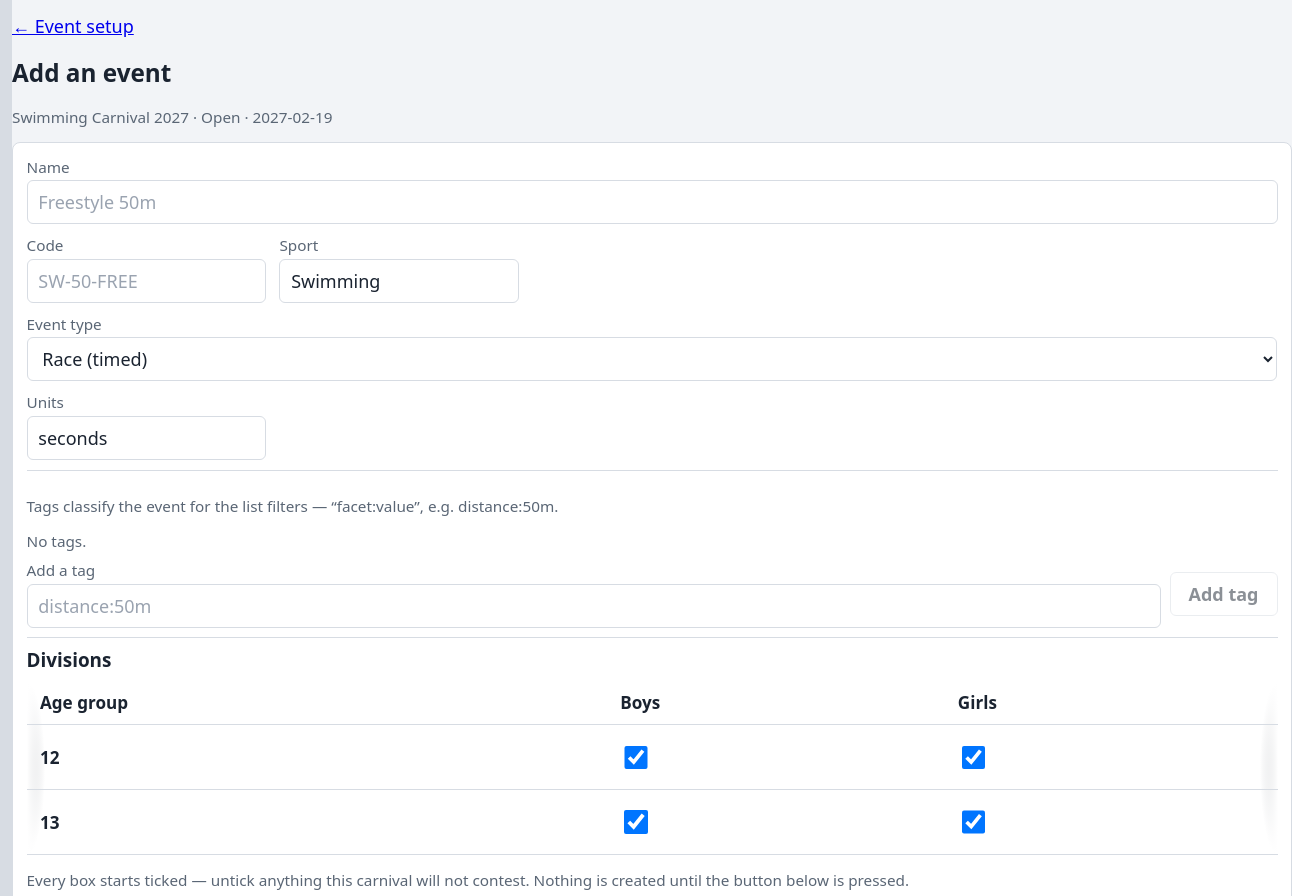
Test: NewEventScreen › sends two attempts per height on a Height event, and none on any other
Check: the field labelled "Name" is shown, box [26,180,1278,224]
Select "Field — bar ladder (vertical jump)" in the dropdown labelled "Event type": (652, 359) [26,337,1278,381]
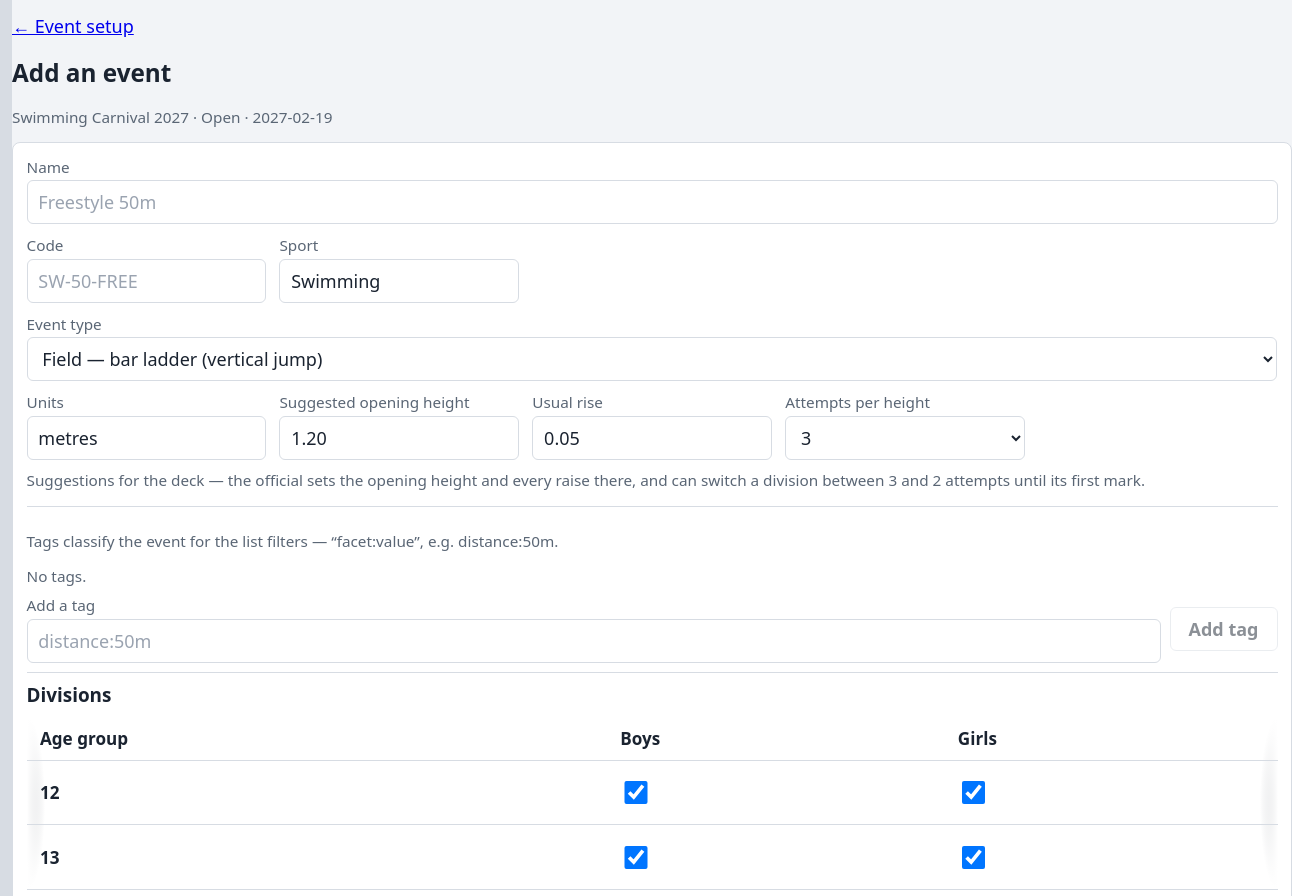
Select "2" in the dropdown labelled "Attempts per height": (905, 438) [785,416,1025,460]
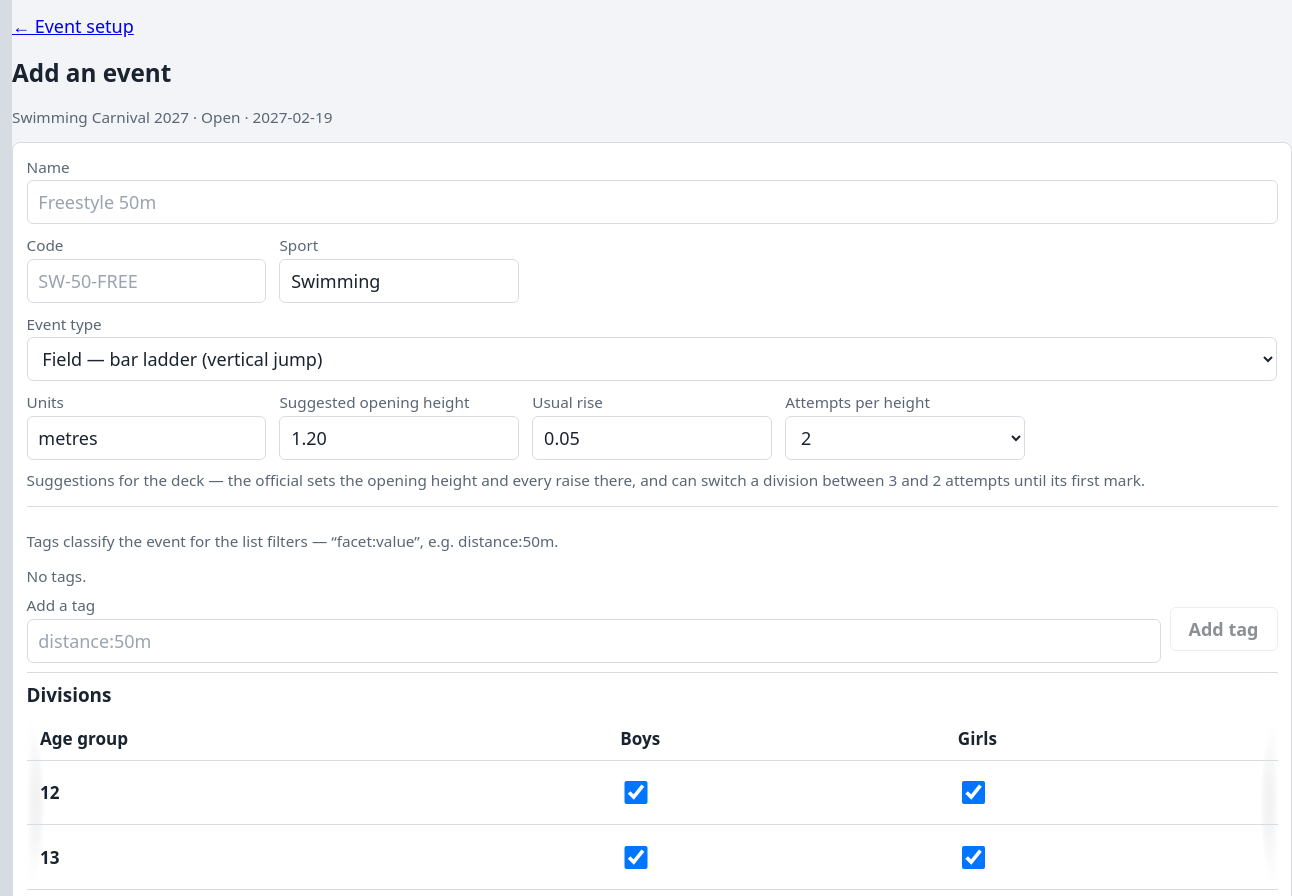
In the field labelled "Name": (652, 202) [26,180,1278,224], type "High Jump"
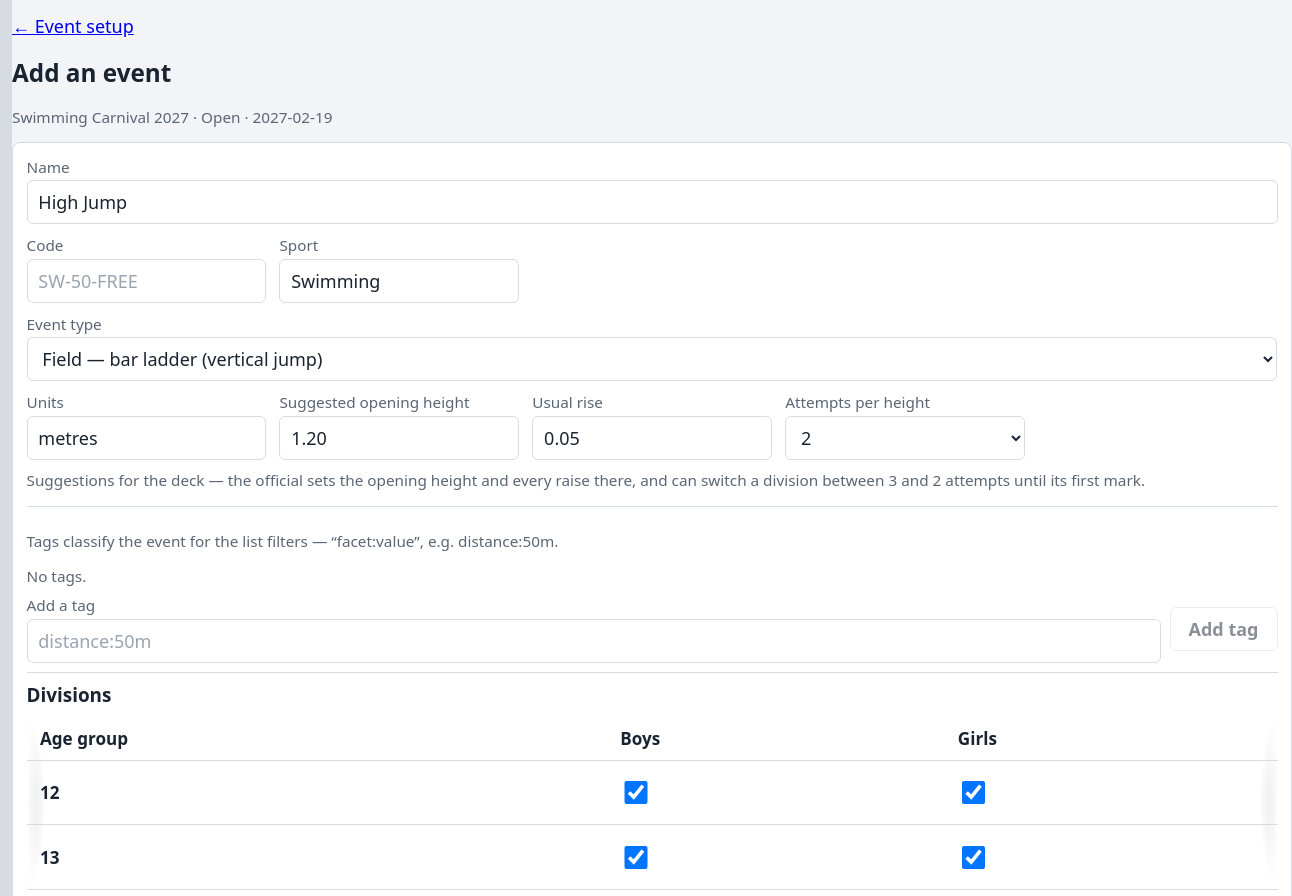
In the field labelled "Code": (146, 281) [26,259,266,303], type "AT-HIGH-JUMP"
(page scrolled)
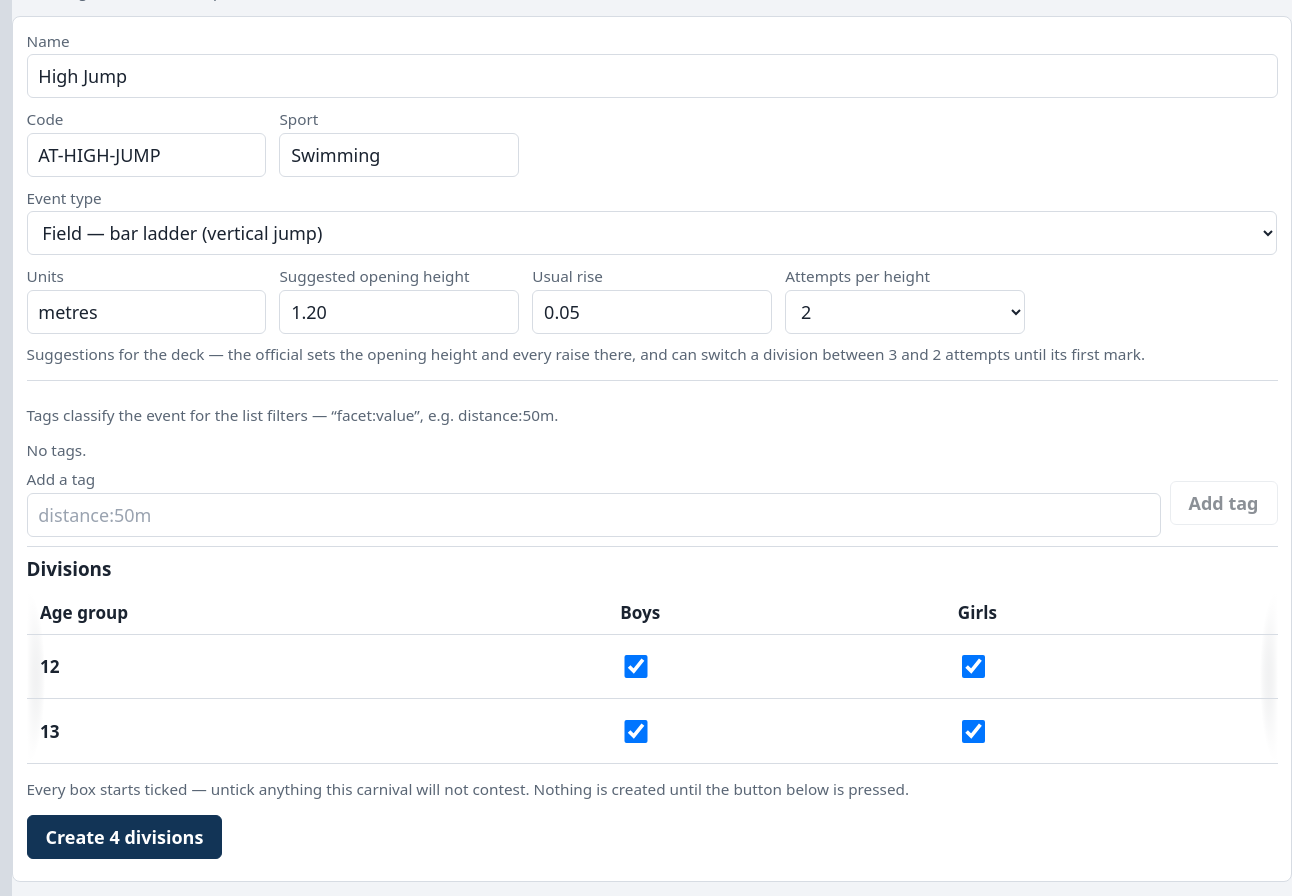
Click the button "Create 4 divisions": (124, 837) [26,815,222,859]
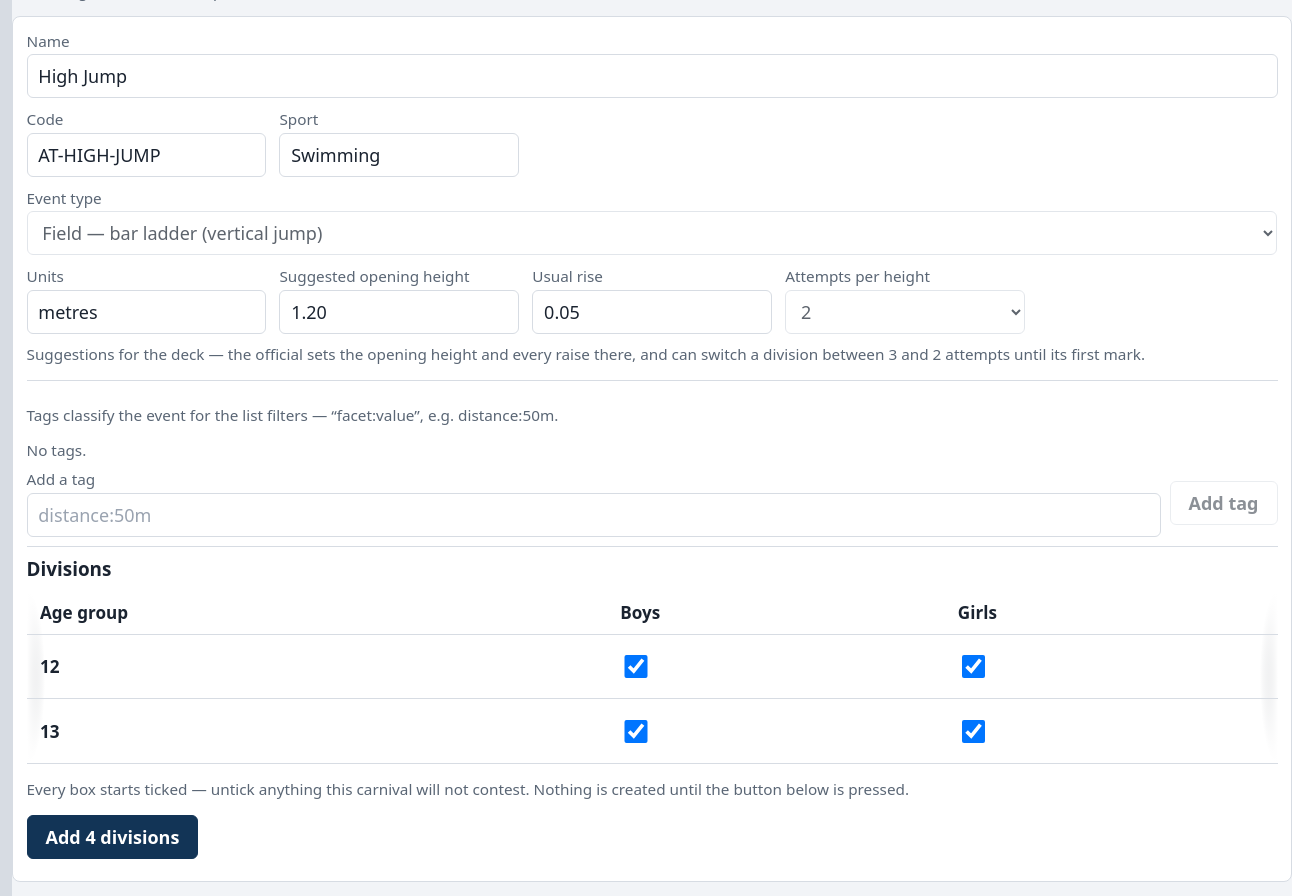
Select "Field — best of attempts (distance)" in the dropdown labelled "Event type": (652, 233) [26,211,1278,255]
(page scrolled)
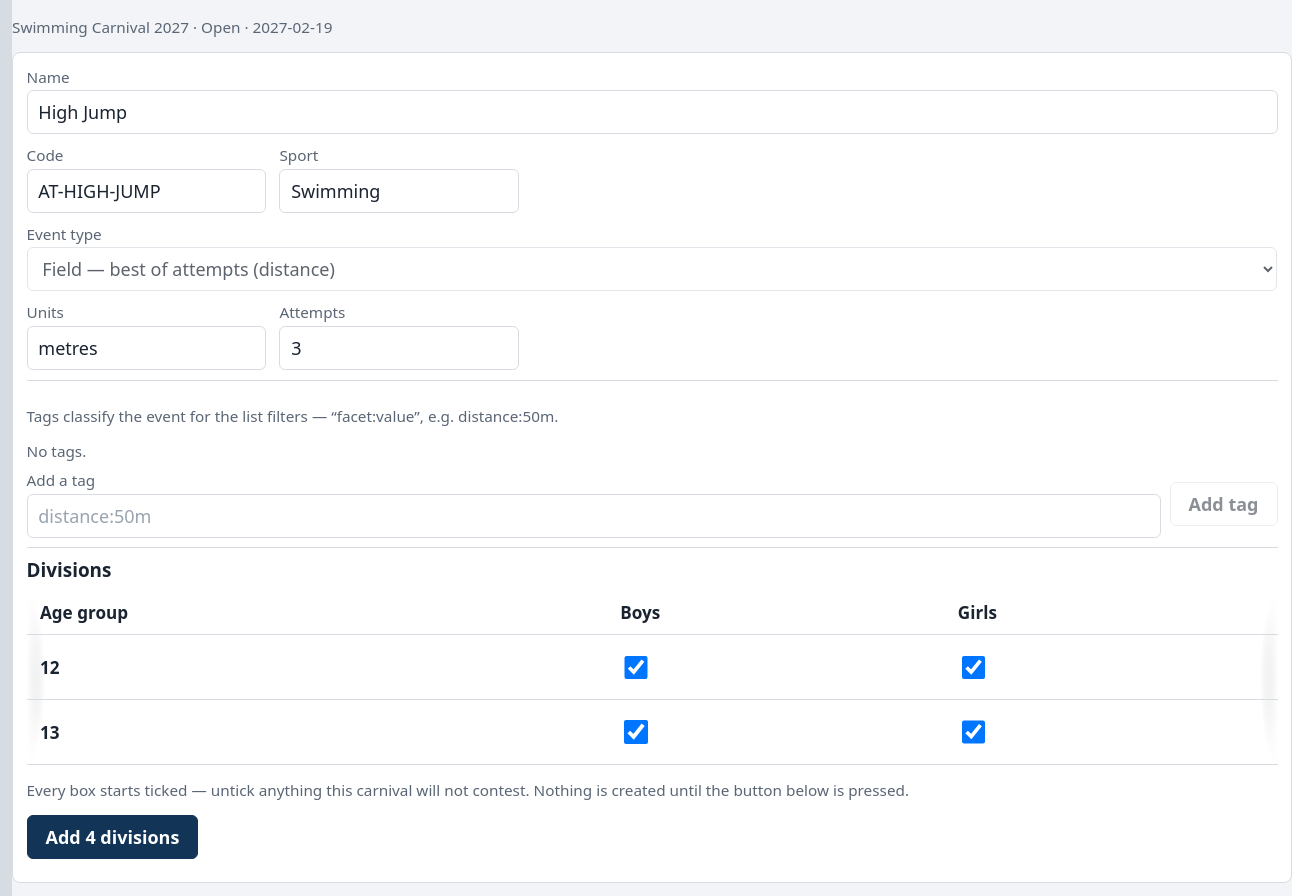
Check: the text labelled "Attempts per height" is gone
